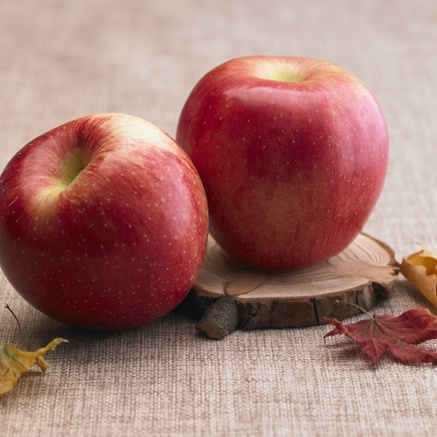apple: (174, 52, 390, 273), (1, 117, 209, 328)
